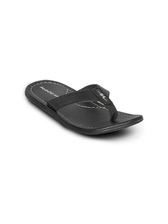shoes: (24, 77, 148, 144)
